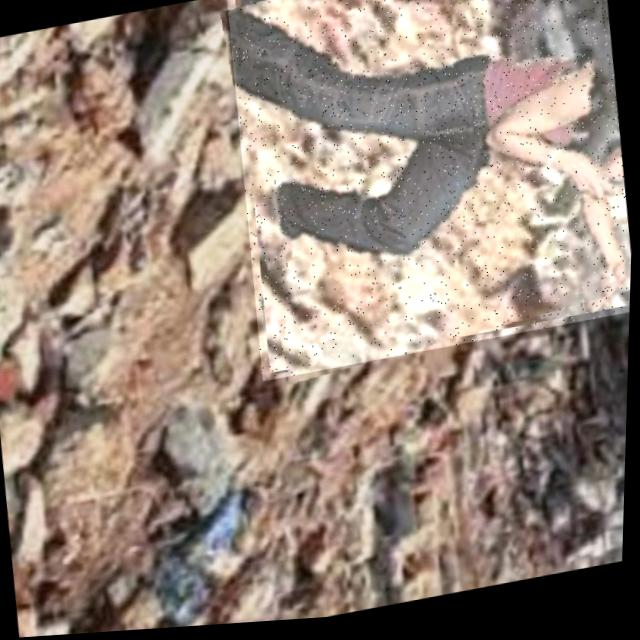Person in Rubble: (216, 0, 640, 387)
